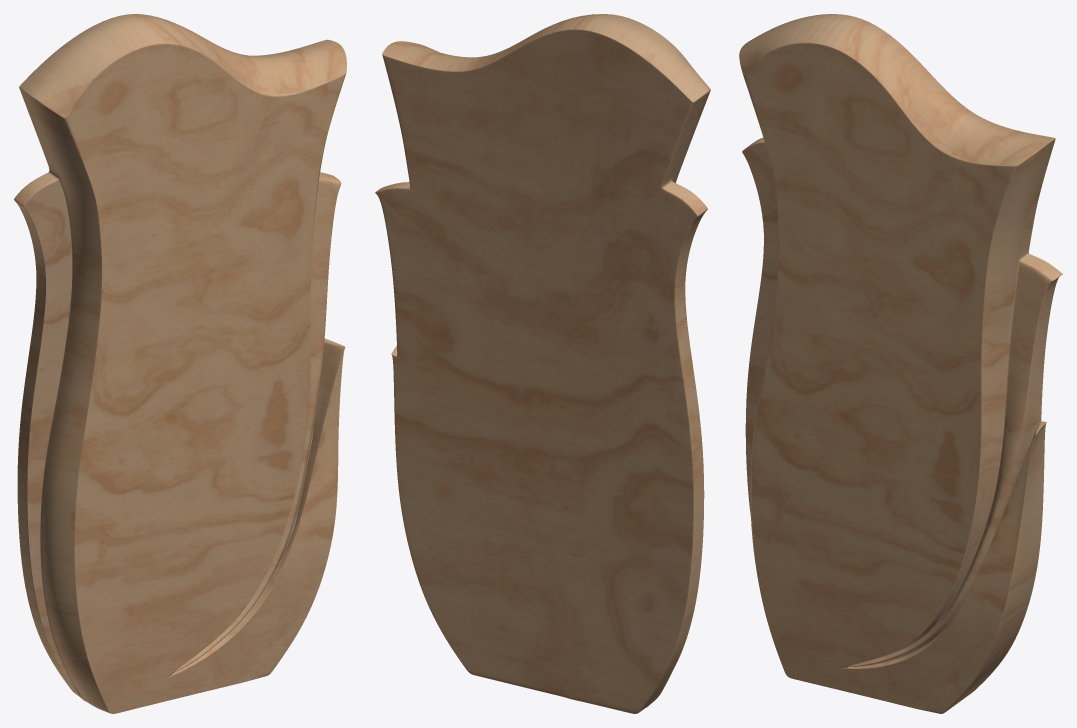
3 views of the same model, side by side, from view 1: azimuth 30°, elevation 25°; view 2: azimuth 150°, elevation 25°; view 3: azimuth 330°, elevation 25° (orthographic). The views are drawn at different scales.
Parts seen in each view (by area): view 1: 21; view 2: 21; view 3: 21.
Boxes of the visible parts, x1,y1,x2,y2 form: 21: [14, 14, 346, 713]; 21: [375, 14, 710, 713]; 21: [739, 14, 1062, 713].
Bounding box in the file's own units: 0.6 × 1.2 × 0.1.
Materials: 1 (1 with a texture image).
